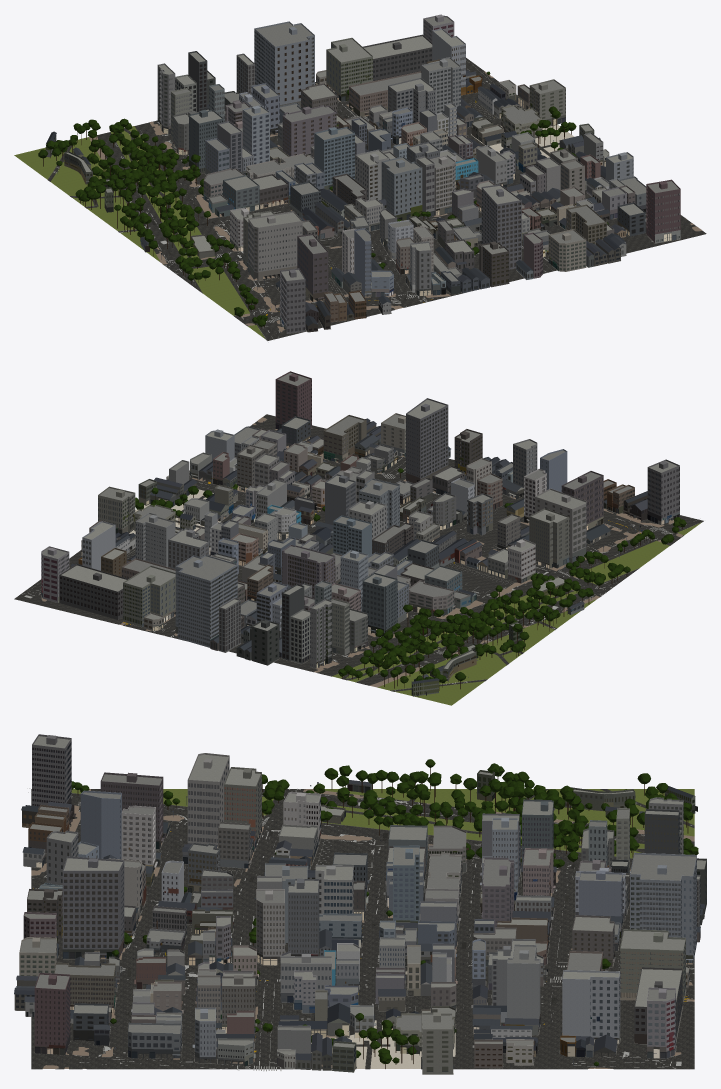
The model's file is namba_city_opt.glb.
3 renders of one model, top to bottom at view 1: azimuth 30°, elevation 25°; view 2: azimuth 150°, elevation 25°; view 3: azimuth 270°, elevation 25°, orthographic. The views are drawn at different scales.
Visible parts, largest first — view 1: asphalt, wall_2_2, wall_1_1, wall_2_3, wall_2_0, wall_3_1, wall_1_0, wall_1_3, wall_3_3, grass, wall_2_1, wall_3_2 (+53 smaller); view 2: asphalt, wall_1_0, wall_2_0, wall_2_3, wall_2_2, wall_3_2, grass, wall_2_1, wall_3_1, wall_3_3, wall_1_2, wall_0_2 (+52 smaller); view 3: asphalt, wall_2_2, wall_2_3, wall_1_0, wall_3_1, wall_3_2, wall_1_3, wall_3_3, wall_2_0, wall_2_1, wall_3_0, leaves_0_1 (+54 smaller).
Part boxes in pixels (box(x1,y1,x2,y2)): asphalt: box(48, 58, 706, 340); wall_2_2: box(355, 142, 531, 238); wall_1_1: box(203, 105, 354, 211); wall_2_3: box(437, 184, 599, 286); wall_2_0: box(236, 21, 387, 124); wall_3_1: box(388, 57, 565, 159); wall_1_0: box(157, 51, 282, 173); wall_1_3: box(331, 220, 489, 314); wall_3_3: box(535, 176, 680, 264); grass: box(14, 126, 264, 338); wall_2_1: box(282, 105, 465, 179); wall_3_2: box(496, 123, 633, 210); asphalt: box(14, 414, 703, 691); wall_1_0: box(236, 572, 397, 668); wall_2_0: box(123, 555, 256, 652); wall_2_3: box(325, 398, 482, 504); wall_2_2: box(256, 469, 426, 545); wall_3_2: box(138, 430, 305, 526); grass: box(332, 522, 701, 705); wall_2_1: box(210, 513, 335, 600); wall_3_1: box(81, 486, 242, 569); wall_3_3: box(234, 371, 376, 478); wall_1_2: box(372, 492, 529, 572); wall_0_2: box(487, 488, 586, 614); asphalt: box(31, 789, 694, 1069); wall_2_2: box(190, 863, 361, 1002); wall_2_3: box(17, 856, 201, 994); wall_1_0: box(516, 797, 706, 926); wall_3_1: box(375, 939, 540, 1074); wall_3_2: box(192, 970, 376, 1072); wall_1_3: box(23, 790, 200, 926); wall_3_3: box(14, 962, 183, 1059); wall_2_0: box(535, 852, 700, 1001); wall_2_1: box(376, 857, 547, 995); wall_3_0: box(560, 951, 682, 1058); leaves_0_1: box(360, 759, 533, 850).
Bounding box in the file's own units: 325 × 48.69 × 330.
Materials: 23 (21 with a texture image).
